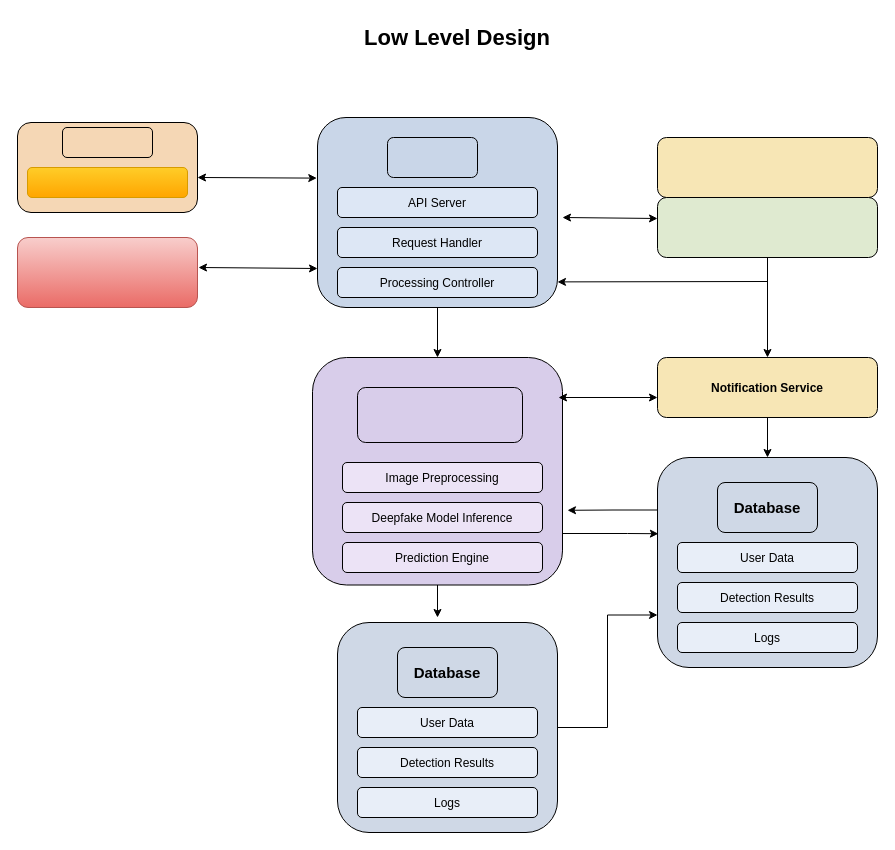
Image size: 895x850. Some labels were removed from this diagram. Here are the shapes that lost their labels. From the top down, the box of each, then its label:
(62, 126, 152, 158): Client
(386, 136, 478, 178): Server
(26, 166, 188, 198): Web Browser
(656, 136, 878, 198): Authentication Service
(656, 196, 878, 258): Logging Service
(16, 236, 198, 308): External Integrator
(356, 386, 522, 442): AI Processing Service
